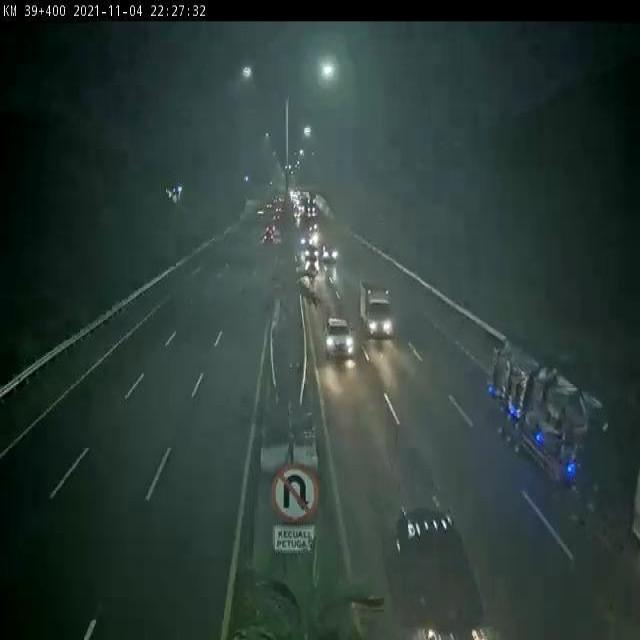car: (393, 508, 483, 640), (323, 315, 360, 360)
truck-s-: (362, 281, 397, 340)
truck-xl-: (494, 341, 640, 559)
